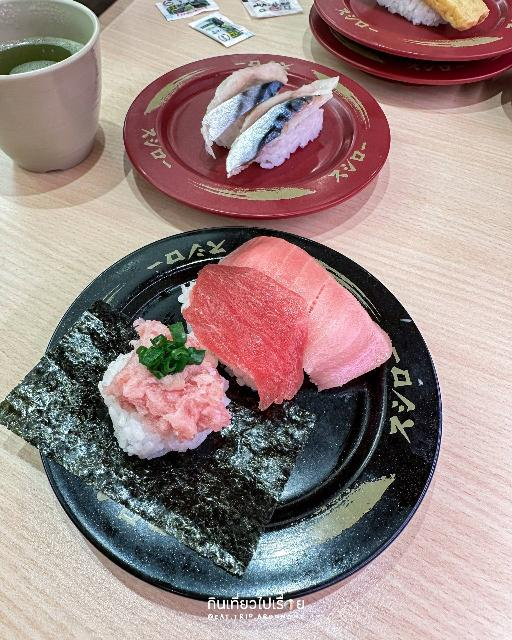janback: (0, 264, 479, 591)
janred: (116, 46, 380, 212), (308, 41, 512, 97), (327, 0, 512, 49)
